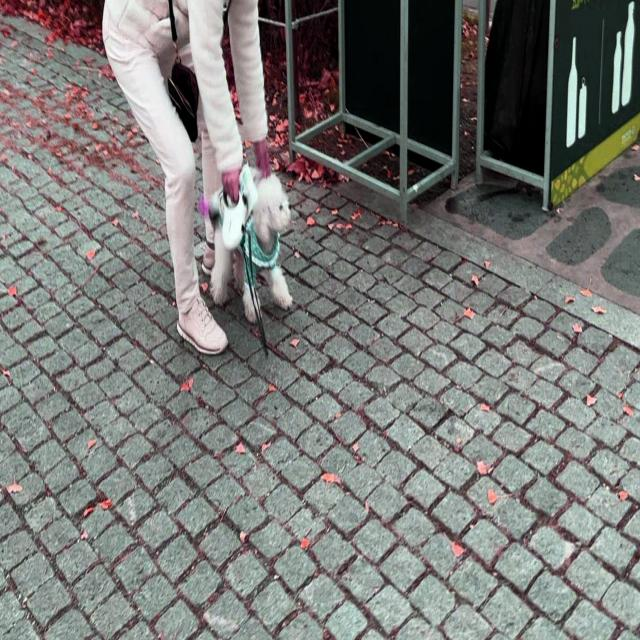Leashed_Dog: (172, 75, 296, 326)
